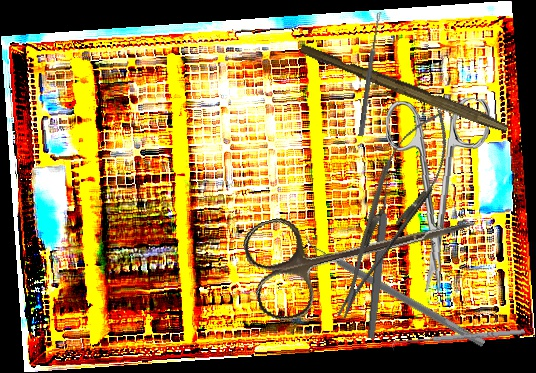Hook Surgical: (391, 327, 526, 352)
Iris Scissors: (238, 168, 488, 328), (377, 93, 491, 296)
Needle Holder: (314, 98, 467, 329)
Scalpel Handle: (297, 42, 512, 134)
Spatula Surgical: (298, 231, 491, 348)
Surgical Spoon: (365, 159, 396, 340), (358, 11, 382, 137)
